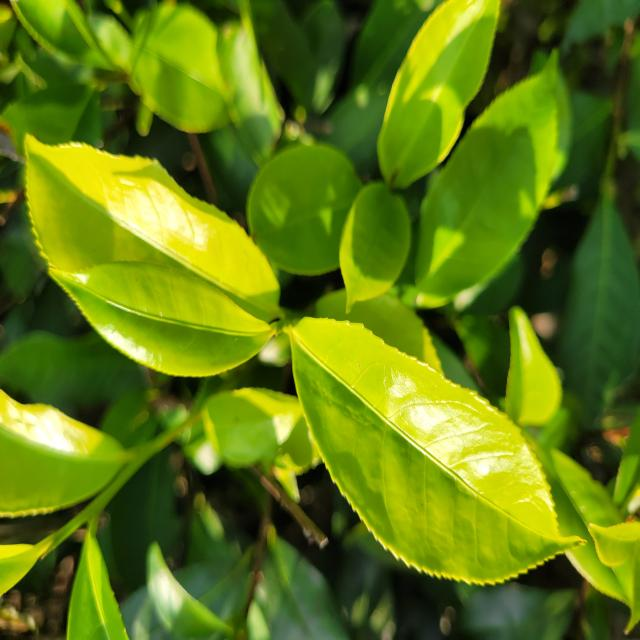Category B(2-4 days): (269, 276, 590, 605)
